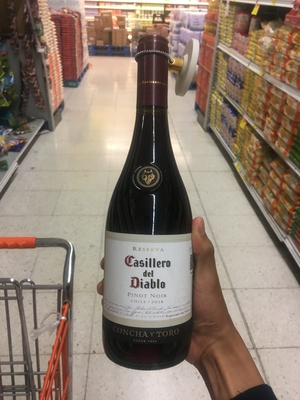casillero del diablo pinot noir: (102, 57, 196, 361)
